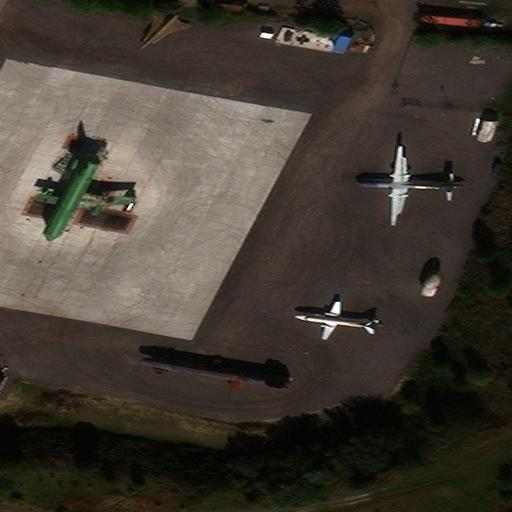Medium Civil Transport: (357, 145, 464, 226), (292, 297, 380, 339)
Military Fighter: (139, 8, 192, 48)
